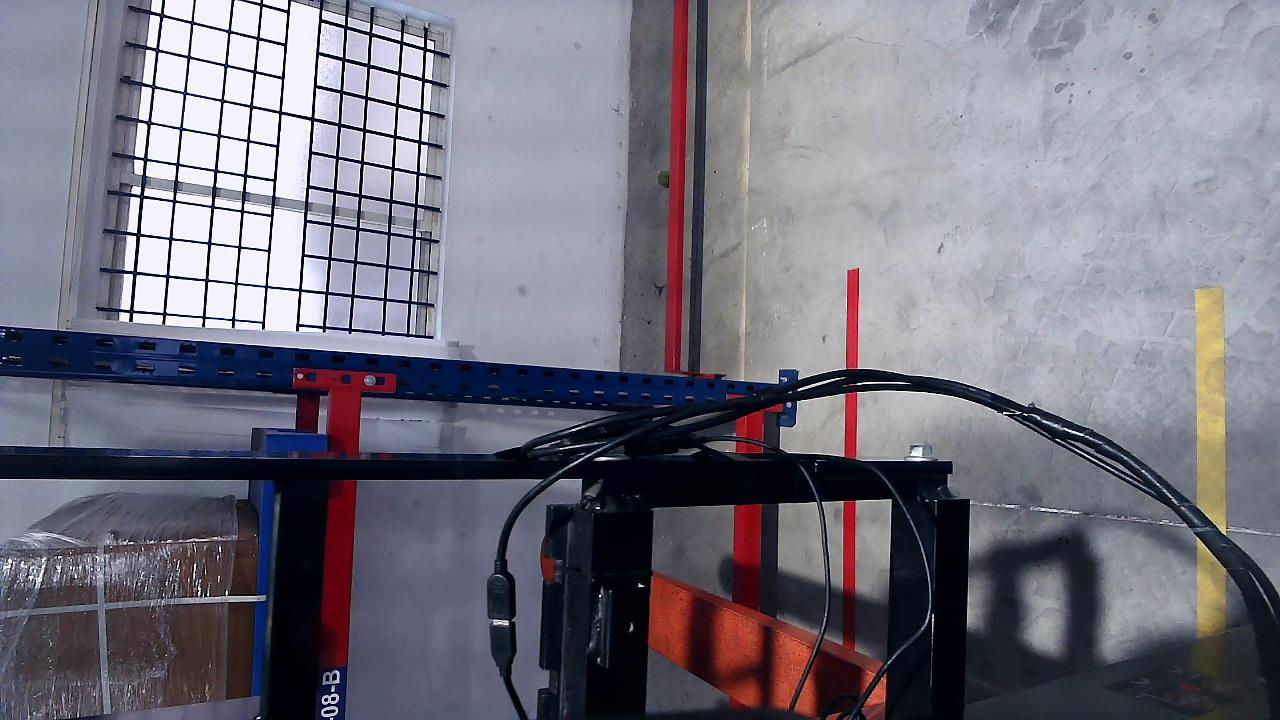h_rack: (313, 384, 363, 720)
red_line: (839, 265, 865, 643)
yellow_line: (1194, 287, 1226, 531)
